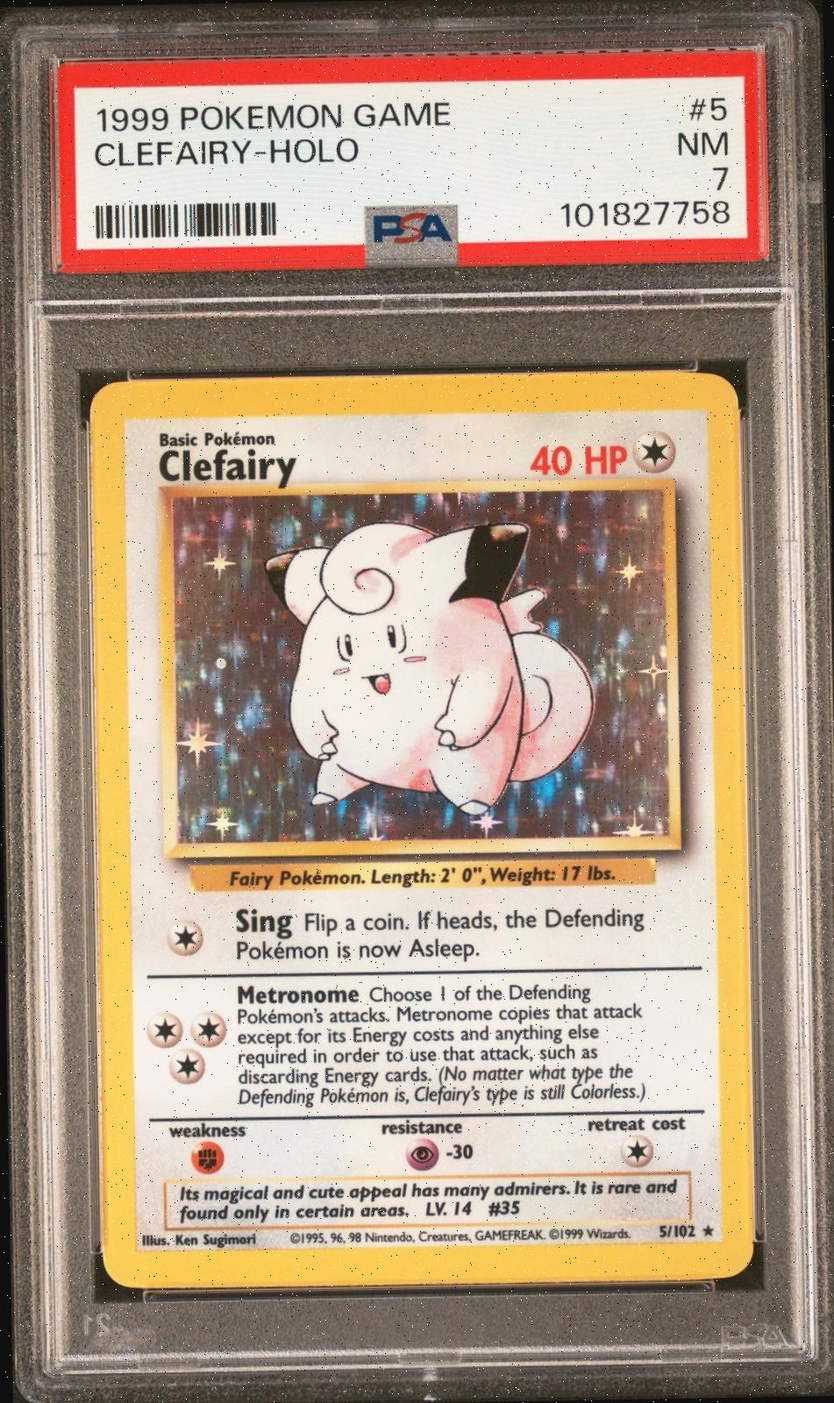card-2UtV: (88, 372, 754, 1289)
